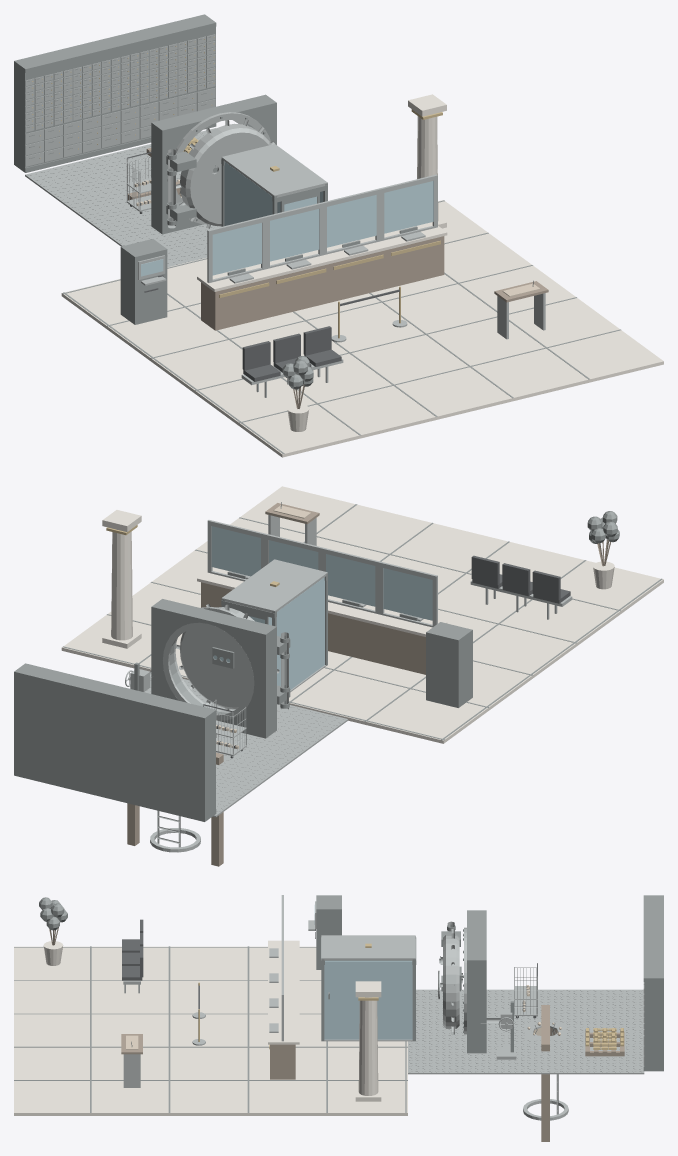
File: bank-vault-hall.glb
3 renders of one model, top to bottom at view 1: azimuth 30°, elevation 25°; view 2: azimuth 150°, elevation 25°; view 3: azimuth 270°, elevation 25°, orthographic. The views are drawn at different scales.
Visible parts, largest first — view 1: 000-lobby-floor-tile/0, 025-teller-counter/3, 000-lobby-floor-tile/1, 026-bulletproof-screen/1, 025-teller-counter/0, 033-waiting-chairs/1, 025-teller-counter/2; view 2: 000-lobby-floor-tile/0, 000-lobby-floor-tile/1, 025-teller-counter/3, 026-bulletproof-screen/1, 025-teller-counter/0, 033-waiting-chairs/1; view 3: 000-lobby-floor-tile/0, 025-teller-counter/3, 000-lobby-floor-tile/1, 026-bulletproof-screen/1, 025-teller-counter/0, 033-waiting-chairs/1, 025-teller-counter/2, 035-writing-desk/2.
Part boxes in pixels (x1,y1,x2,y2): 000-lobby-floor-tile/0: [61, 94, 663, 457]; 025-teller-counter/3: [25, 34, 545, 397]; 000-lobby-floor-tile/1: [14, 14, 620, 453]; 026-bulletproof-screen/1: [141, 162, 433, 276]; 025-teller-counter/0: [128, 148, 548, 408]; 033-waiting-chairs/1: [127, 152, 399, 381]; 025-teller-counter/2: [32, 36, 442, 338]; 000-lobby-floor-tile/0: [61, 486, 663, 743]; 000-lobby-floor-tile/1: [14, 502, 662, 821]; 025-teller-counter/3: [125, 515, 572, 852]; 026-bulletproof-screen/1: [211, 526, 432, 689]; 025-teller-counter/0: [127, 503, 610, 866]; 033-waiting-chairs/1: [203, 555, 570, 758]; 000-lobby-floor-tile/0: [14, 940, 407, 1115]; 025-teller-counter/3: [123, 895, 644, 1120]; 000-lobby-floor-tile/1: [14, 895, 663, 1112]; 026-bulletproof-screen/1: [314, 905, 412, 1039]; 025-teller-counter/0: [49, 927, 624, 1141]; 033-waiting-chairs/1: [122, 919, 537, 1018]; 025-teller-counter/2: [198, 943, 623, 1049]; 035-writing-desk/2: [126, 985, 561, 1049].
Size of the model in its own units: 10 by 5.65 by 16.5.
